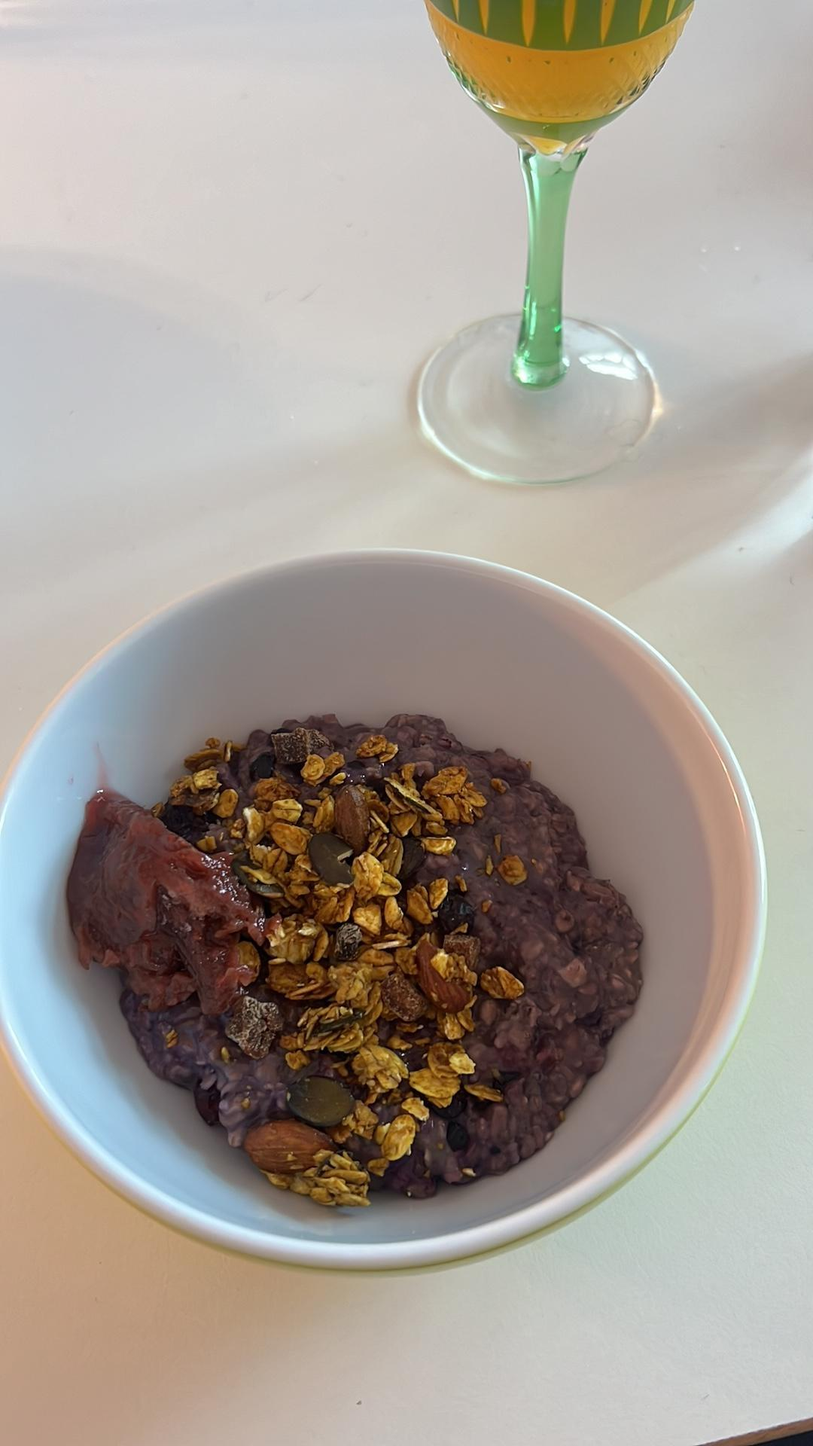almond: (239, 1116, 327, 1173), (413, 935, 471, 1013), (332, 781, 376, 854)
